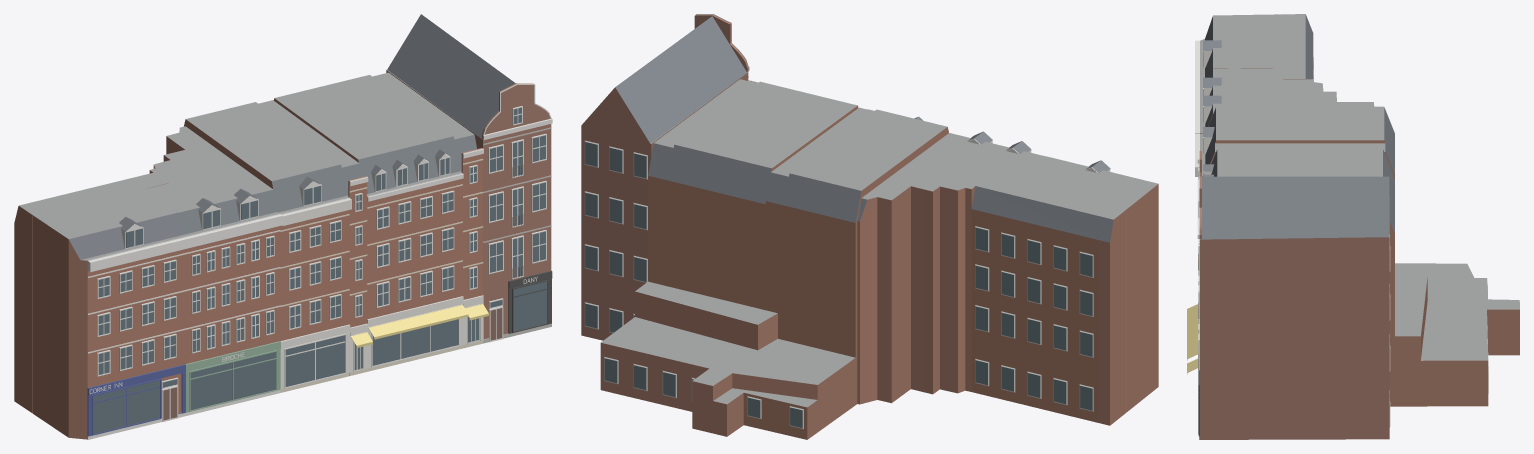
File: chunk-face-bilder-233580-162444.glb
3 renders of one model, left to right at view 1: azimuth 30°, elevation 25°; view 2: azimuth 150°, elevation 25°; view 3: azimuth 270°, elevation 25°, orthographic. The views are drawn at different scales.
Visible parts, largest first — view 1: face-bilder-233580-162444; view 2: face-bilder-233580-162444; view 3: face-bilder-233580-162444.
Boxes of the visible parts, box(x1,y1,x2,y2) form: face-bilder-233580-162444: box(14, 14, 552, 439); face-bilder-233580-162444: box(581, 14, 1158, 439); face-bilder-233580-162444: box(1187, 14, 1519, 439).
Bounding box in the file's own units: 41.85 × 20.97 × 25.55.
